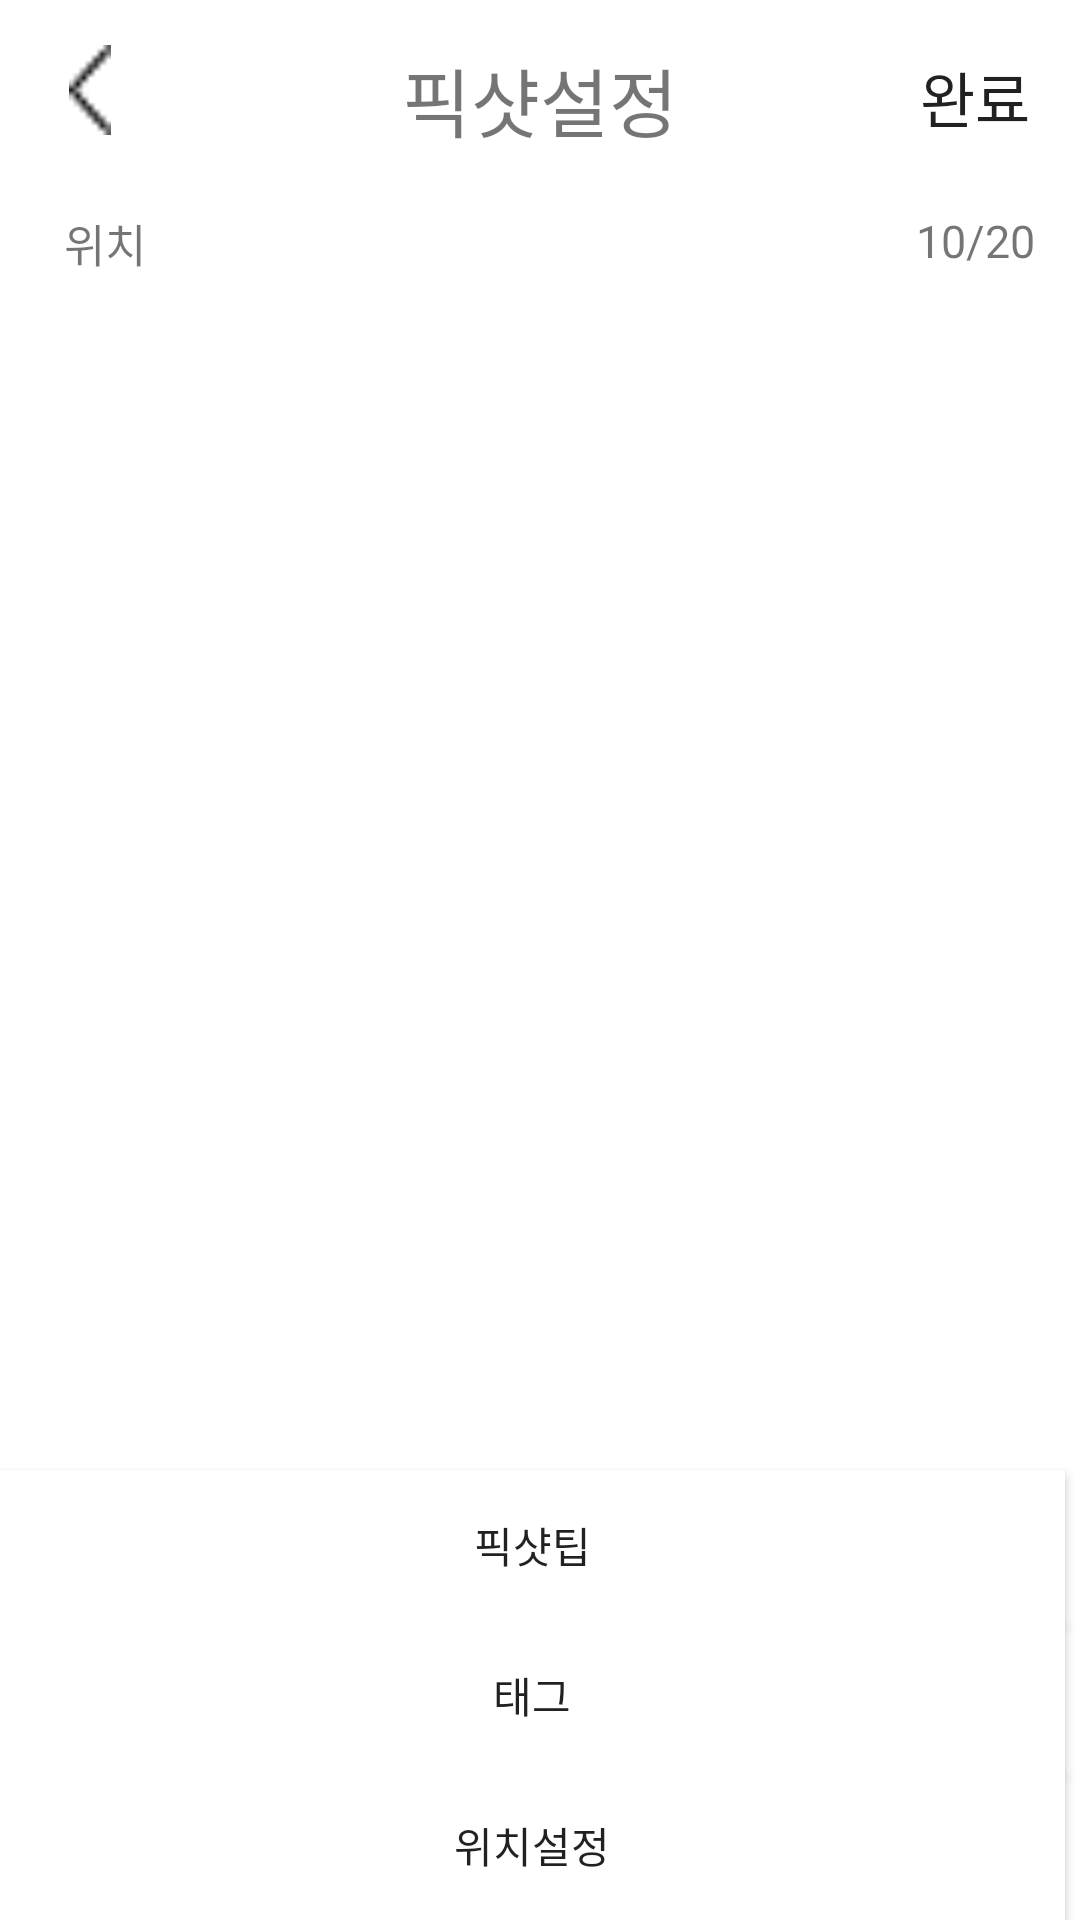

Icon bounding boxes for this 1080 x 1920 phone screenshot, format (x1, y1, x2, y2):
back: (69, 45, 111, 135)
